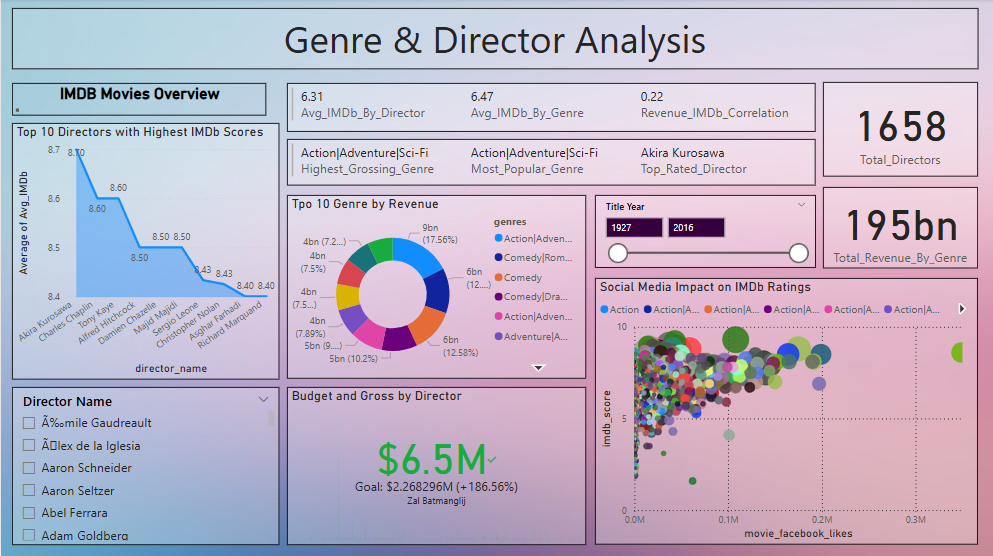

The page's visual inventory and layout, read from the dashboard file:
{"tool":"powerbi","page":{"name":"Genre & Director Analysis","canvas":[1280,720],"ordinal":1},"visuals":[{"type":"textbox","box":[14.4,11.5,1246.9,79.1],"z":0},{"type":"areaChart","title":"Top 10 Directors with Highest IMDb Scores","fields":{"Category":["Top_10_Directors_Table.director_name"],"Y":["Top_10_Directors_Table.Avg_IMDb"]},"box":[14.4,159.6,345.2,330.8],"z":1000},{"type":"donutChart","title":"Tpo 10 Genre by Revenue","fields":{"Category":["Top_10_Genres.genres"],"Y":["Top_10_Genres.Total Revenue"]},"box":[369,252.9,385.8,237.4],"z":2000},{"type":"scatterChart","title":"Social Media Impact on IMDb Ratings","fields":{"X":["IMDB_Movies.movie_facebook_likes"],"Y":["IMDB_Movies.imdb_score"],"Size":["IMDB_Movies.num_voted_users"],"Series":["IMDB_Movies.genres"]},"box":[766.6,360.6,494.1,344.1],"z":3000},{"type":"card","fields":{"Values":["New Measure.Total_Directors"]},"box":[1061.2,107.4,199.6,122.5],"z":4000},{"type":"card","fields":{"Values":["New Measure.Total_Revenue_By_Genre"]},"box":[1061.2,242.2,199.6,104.6],"z":5000},{"type":"multiRowCard","fields":{"Values":["New Measure.Avg_IMDb_By_Director","New Measure.Avg_IMDb_By_Genre","New Measure.Revenue_IMDb_Correlation"]},"box":[369.6,107.9,681.7,63.3],"z":6000},{"type":"actionButton","title":"IMDB  Movies Overview","box":[14.4,107.9,327.9,41.7],"z":7000},{"type":"multiRowCard","fields":{"Values":["New Measure.Highest_Grossing_Genre","New Measure.Most_Popular_Genre","New Measure.Top_Rated_Director"]},"box":[369.6,181.2,681.7,60.4],"z":8000},{"type":"kpi","title":"Budget and Gross by Director","fields":{"Indicator":["IMDB_Movies.budget"],"TrendLine":["IMDB_Movies.director_name"],"Goal":["IMDB_Movies.gross"]},"box":[369,500.6,385.8,203.9],"z":9000},{"type":"slicer","fields":{"Values":["IMDB_Movies.director_name"]},"box":[14,500,345,204],"z":10000},{"type":"slicer","fields":{"Values":["IMDB_Movies.title_year"]},"box":[766.6,253.2,284.9,93.6],"z":11000}]}

Visuals, with their boxes in screenshot pixels (x1, y1, x2, y2), scaled from the page's 1280x720 canvas onto the 993x556 screenshot:
textbox: pyautogui.locateOnScreen(11, 9, 978, 70)
"Top 10 Directors with Highest IMDb Scores" areaChart: pyautogui.locateOnScreen(11, 123, 279, 379)
"Tpo 10 Genre by Revenue" donutChart: pyautogui.locateOnScreen(286, 195, 586, 379)
"Social Media Impact on IMDb Ratings" scatterChart: pyautogui.locateOnScreen(595, 278, 978, 544)
card - New Measure.Total_Directors: pyautogui.locateOnScreen(823, 83, 978, 178)
card - New Measure.Total_Revenue_By_Genre: pyautogui.locateOnScreen(823, 187, 978, 268)
multiRowCard - New Measure.Avg_IMDb_By_Director x New Measure.Avg_IMDb_By_Genre: pyautogui.locateOnScreen(287, 83, 816, 132)
"IMDB  Movies Overview" actionButton: pyautogui.locateOnScreen(11, 83, 266, 116)
multiRowCard - New Measure.Highest_Grossing_Genre x New Measure.Most_Popular_Genre: pyautogui.locateOnScreen(287, 140, 816, 187)
"Budget and Gross by Director" kpi: pyautogui.locateOnScreen(286, 387, 586, 544)
slicer - IMDB_Movies.director_name: pyautogui.locateOnScreen(11, 386, 279, 544)
slicer - IMDB_Movies.title_year: pyautogui.locateOnScreen(595, 196, 816, 268)
